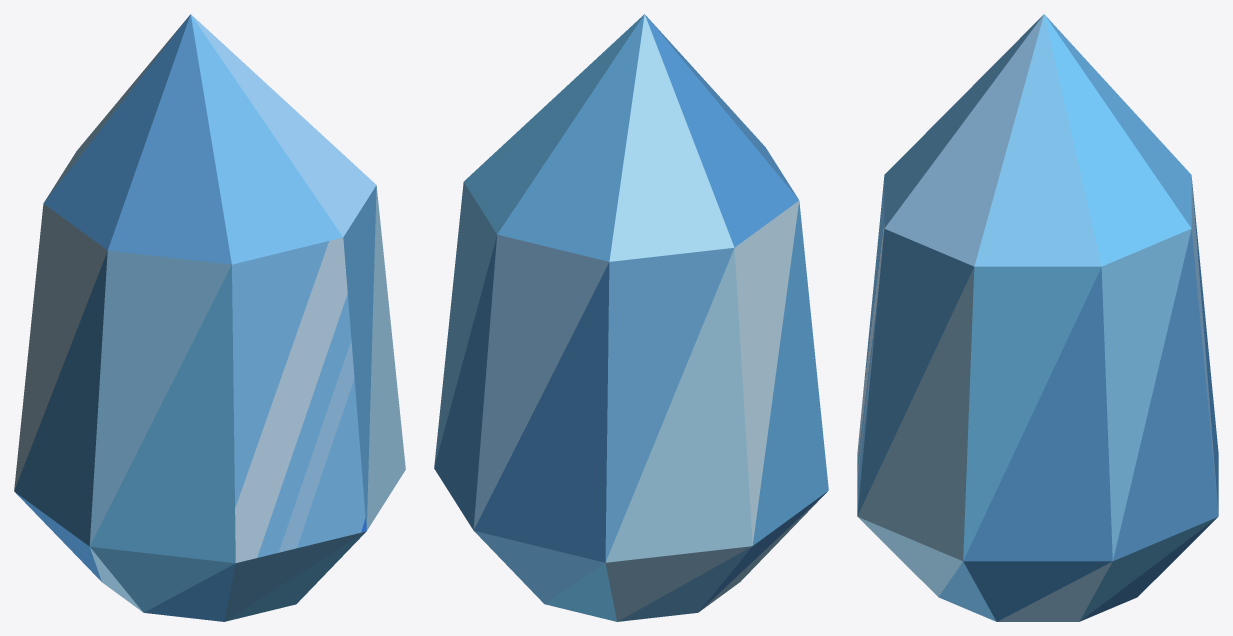
The model's file is asset.glb.
3 renders of one model, left to right at view 1: azimuth 30°, elevation 25°; view 2: azimuth 150°, elevation 25°; view 3: azimuth 270°, elevation 25°, orthographic.
Parts seen in each view (by area): view 1: Azure crystal; view 2: Azure crystal; view 3: Azure crystal.
Boxes of the visible parts, left/top/right/bottom form: Azure crystal: left=14, top=14, right=405, bottom=621; Azure crystal: left=434, top=14, right=828, bottom=621; Azure crystal: left=857, top=14, right=1218, bottom=621.
Bounding box in the file's own units: 0.2347 × 0.4 × 0.2347.
13 materials, 1 textured.
